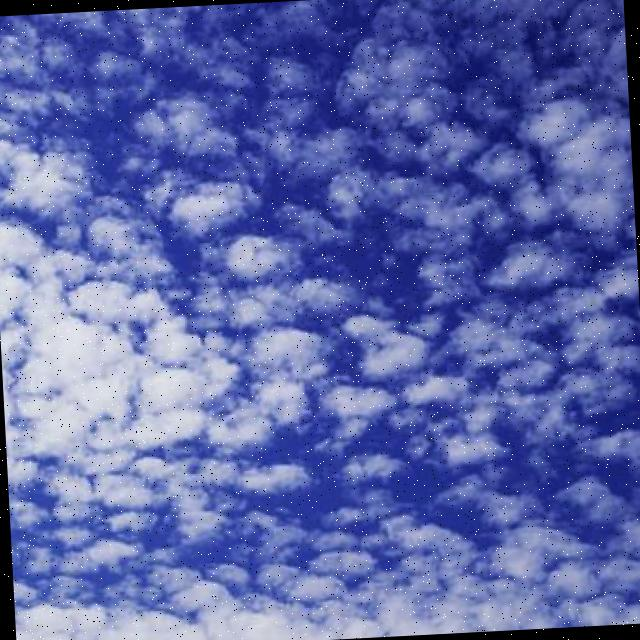Cc: (1, 2, 640, 640)
